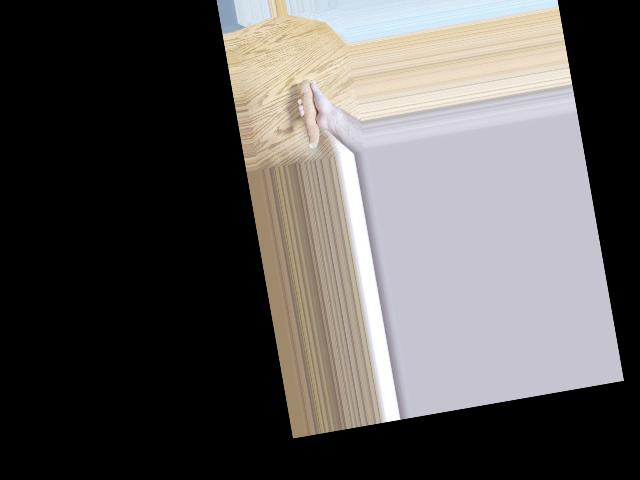sweet_potato: (297, 76, 329, 150)
